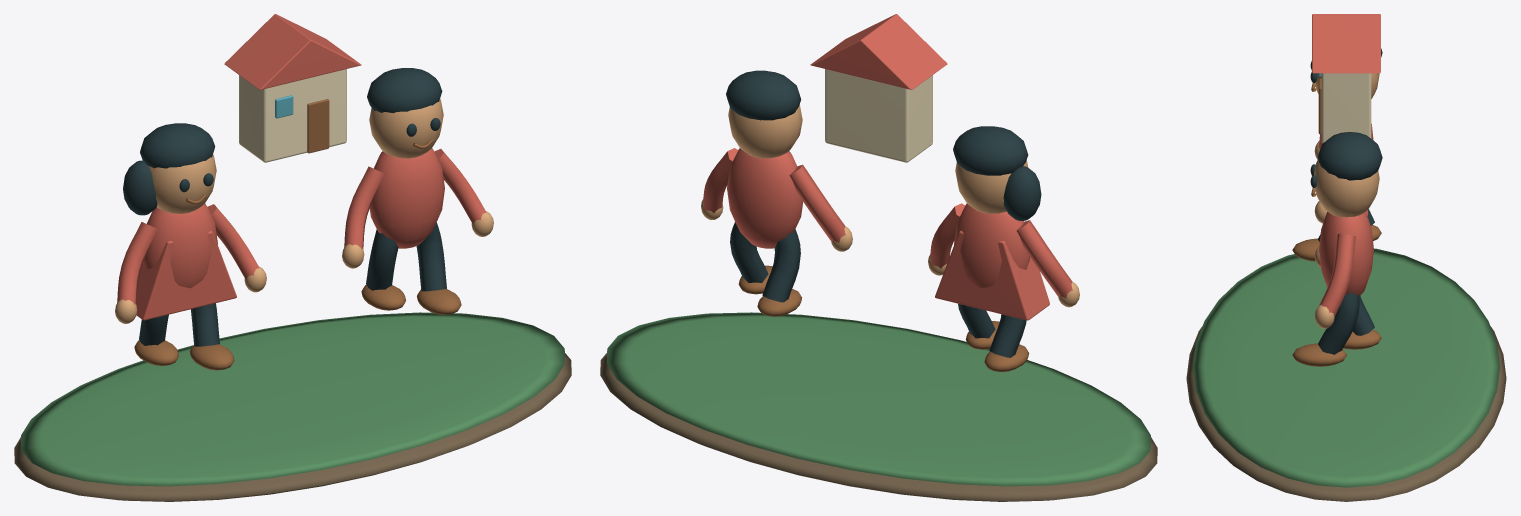
File: complete-first-wife-child-family.glb
The picture shows the model from 3 angles, left to right: view 1: azimuth 30°, elevation 25°; view 2: azimuth 150°, elevation 25°; view 3: azimuth 270°, elevation 25°; orthographic projection. The views are drawn at different scales.
Parts seen in each view (by area): view 1: complete-first-wife-child-family_surface_01, complete-first-wife-child-family_surface_05, complete-first-wife-child-family_surface_03, complete-first-wife-child-family_surface_00, complete-first-wife-child-family_surface_02, complete-first-wife-child-family_surface_06, complete-first-wife-child-family_surface_04; view 2: complete-first-wife-child-family_surface_01, complete-first-wife-child-family_surface_05, complete-first-wife-child-family_surface_03, complete-first-wife-child-family_surface_00, complete-first-wife-child-family_surface_06, complete-first-wife-child-family_surface_02, complete-first-wife-child-family_surface_04; view 3: complete-first-wife-child-family_surface_01, complete-first-wife-child-family_surface_05, complete-first-wife-child-family_surface_00, complete-first-wife-child-family_surface_03, complete-first-wife-child-family_surface_02, complete-first-wife-child-family_surface_06, complete-first-wife-child-family_surface_04.
Part boxes in pixels (<box>): complete-first-wife-child-family_surface_01: <box>21,312,564,486</box>; complete-first-wife-child-family_surface_05: <box>117,14,486,320</box>; complete-first-wife-child-family_surface_03: <box>123,68,446,346</box>; complete-first-wife-child-family_surface_00: <box>14,353,571,501</box>; complete-first-wife-child-family_surface_02: <box>115,99,493,323</box>; complete-first-wife-child-family_surface_06: <box>239,69,346,162</box>; complete-first-wife-child-family_surface_04: <box>134,99,461,370</box>; complete-first-wife-child-family_surface_01: <box>607,312,1150,486</box>; complete-first-wife-child-family_surface_05: <box>703,14,1072,320</box>; complete-first-wife-child-family_surface_03: <box>726,70,1041,357</box>; complete-first-wife-child-family_surface_00: <box>600,353,1157,501</box>; complete-first-wife-child-family_surface_06: <box>825,69,932,162</box>; complete-first-wife-child-family_surface_02: <box>701,104,1079,307</box>; complete-first-wife-child-family_surface_04: <box>738,265,1029,371</box>; complete-first-wife-child-family_surface_01: <box>1193,248,1499,487</box>; complete-first-wife-child-family_surface_05: <box>1312,14,1380,317</box>; complete-first-wife-child-family_surface_00: <box>1186,326,1506,501</box>; complete-first-wife-child-family_surface_03: <box>1310,48,1382,354</box>; complete-first-wife-child-family_surface_02: <box>1314,73,1379,328</box>; complete-first-wife-child-family_surface_06: <box>1321,73,1371,143</box>; complete-first-wife-child-family_surface_04: <box>1292,78,1381,366</box>.
Size of the model in its own units: 4.56 by 3.27 by 2.5.
